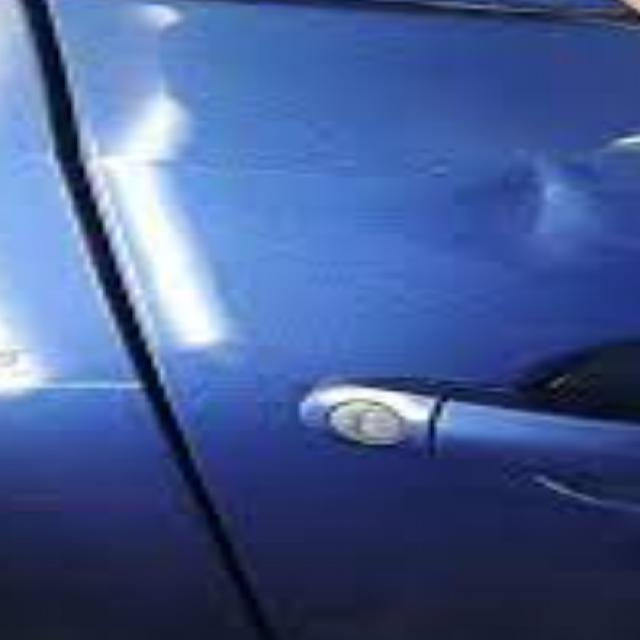dents: (447, 147, 640, 276)
